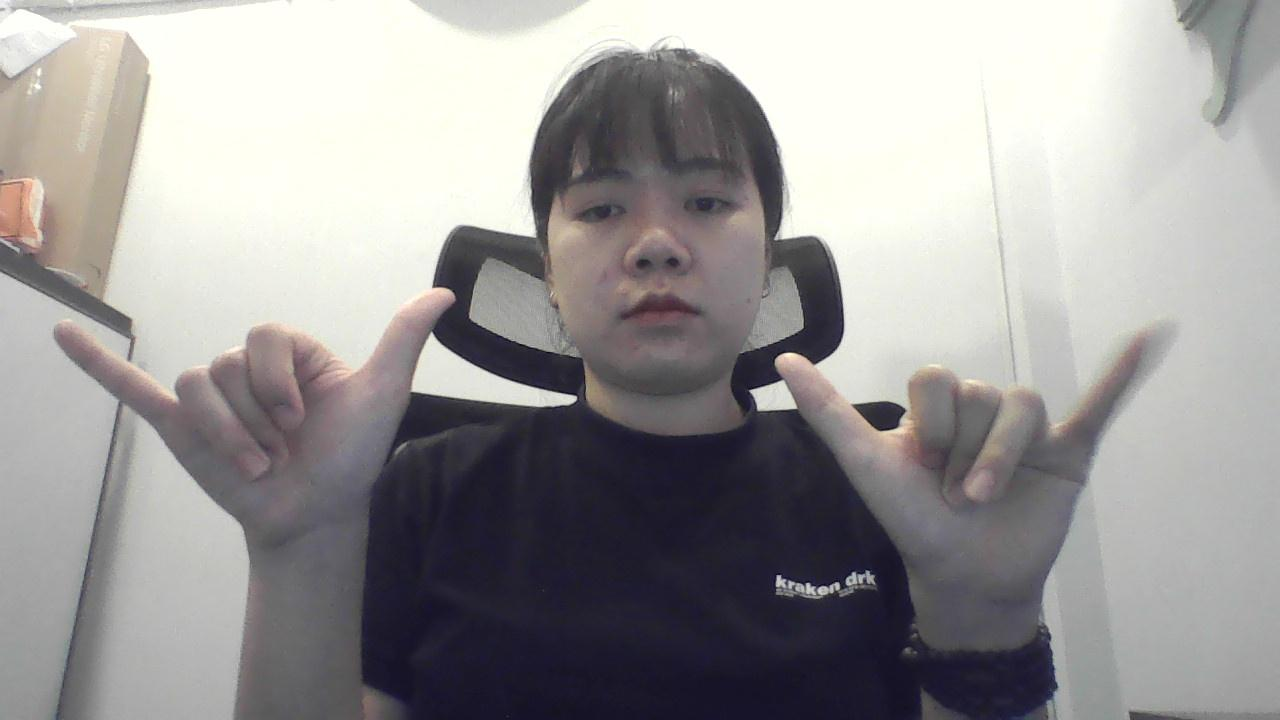Y: (769, 314, 1219, 617), (40, 277, 507, 562)
